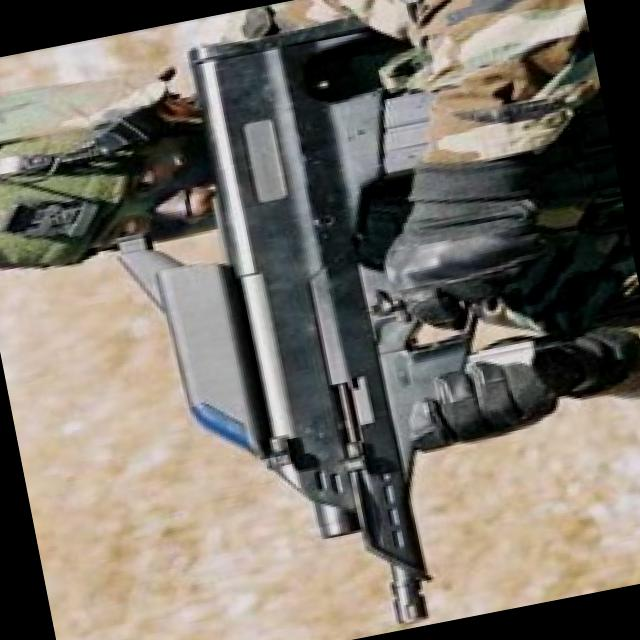long weapon: (106, 0, 537, 639)
